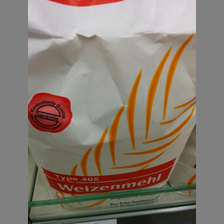flour: (29, 1, 196, 208)
